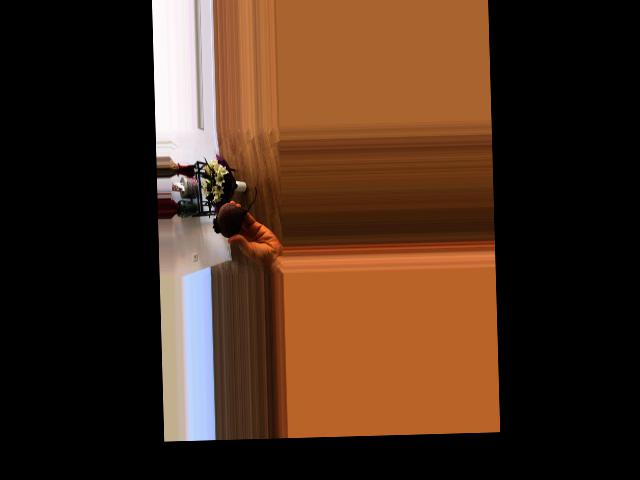beet: (212, 185, 257, 238)
